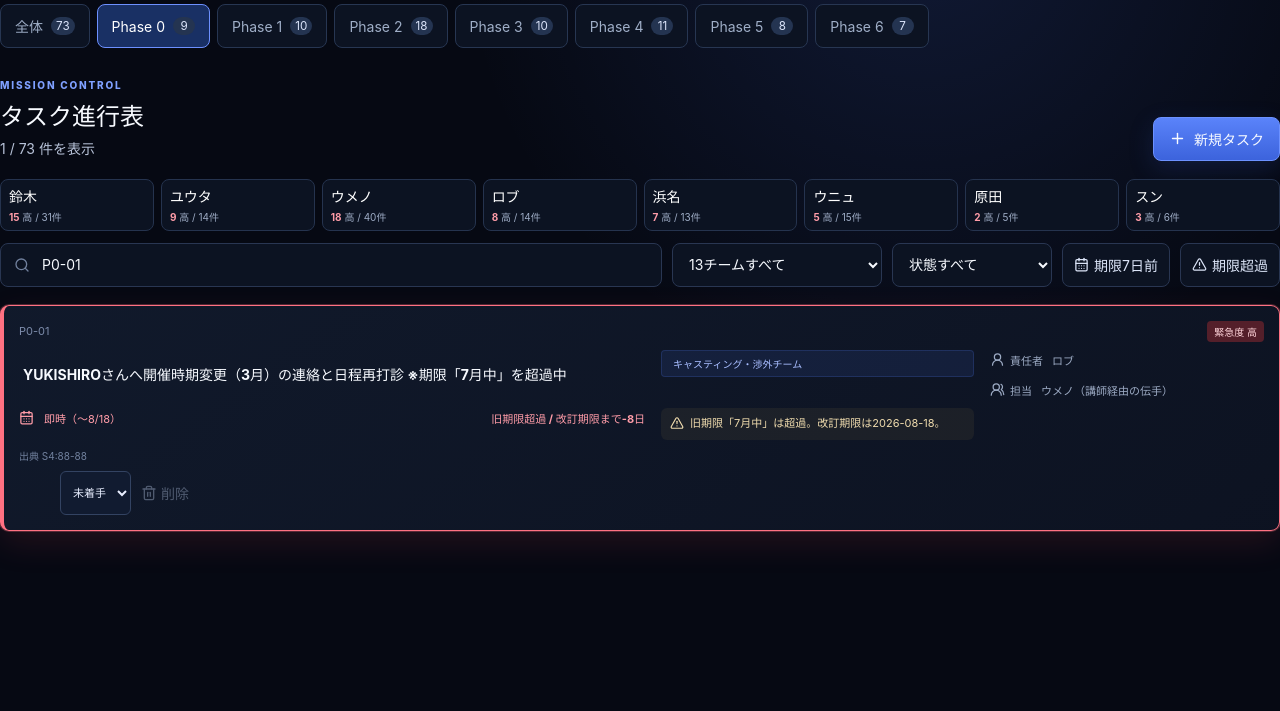
TaskBoard UI › rejects a non-visible inline owner before persistence 0
The image size is (1280, 711).
Click the button with aria-label "責任者を直接編集" at point(1063, 360), box [1048,350,1078,370]
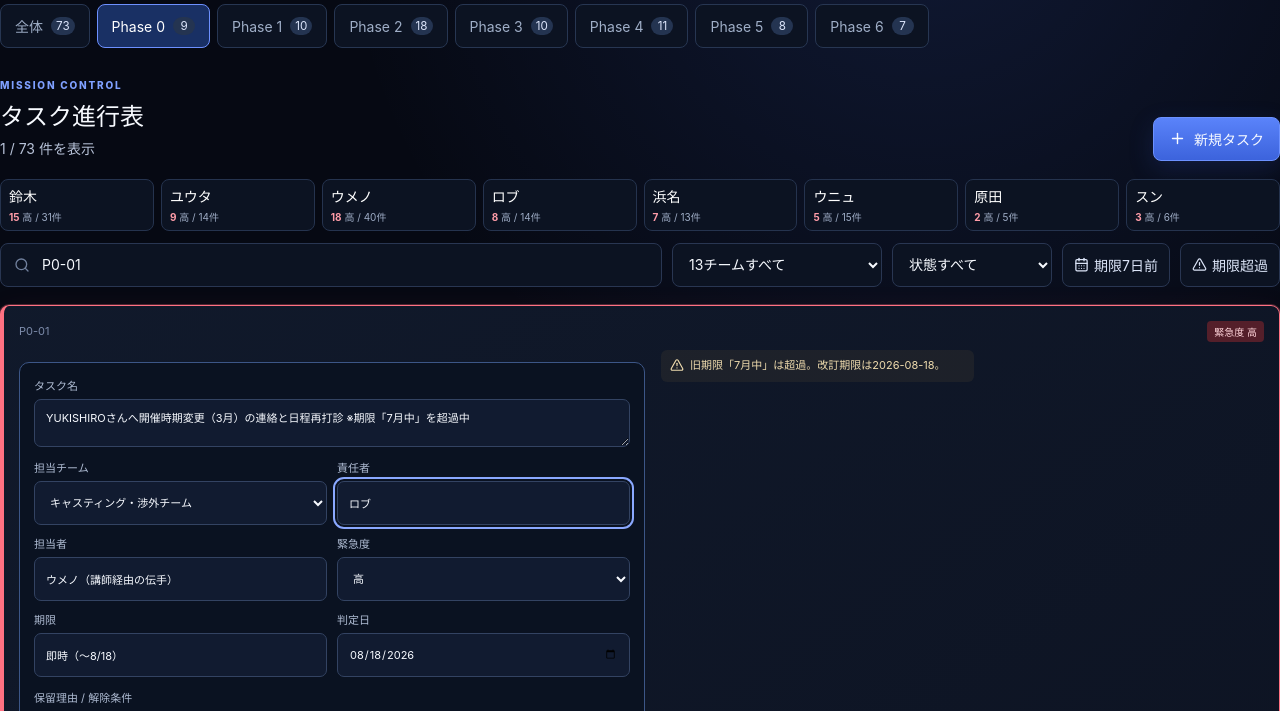
Clear the field labelled "責任者" at point(484, 503), box [337,481,630,525]
(page scrolled)
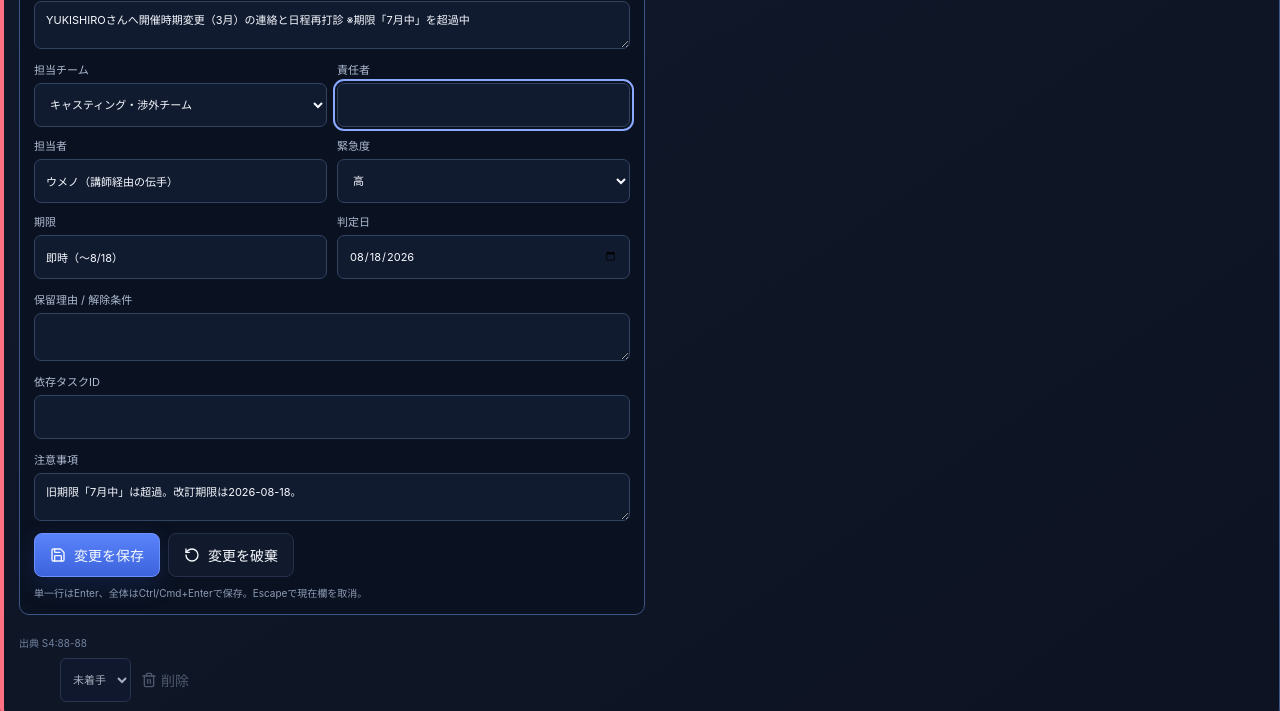
Click the button "変更を保存" at point(97, 555), box [34,533,160,577]
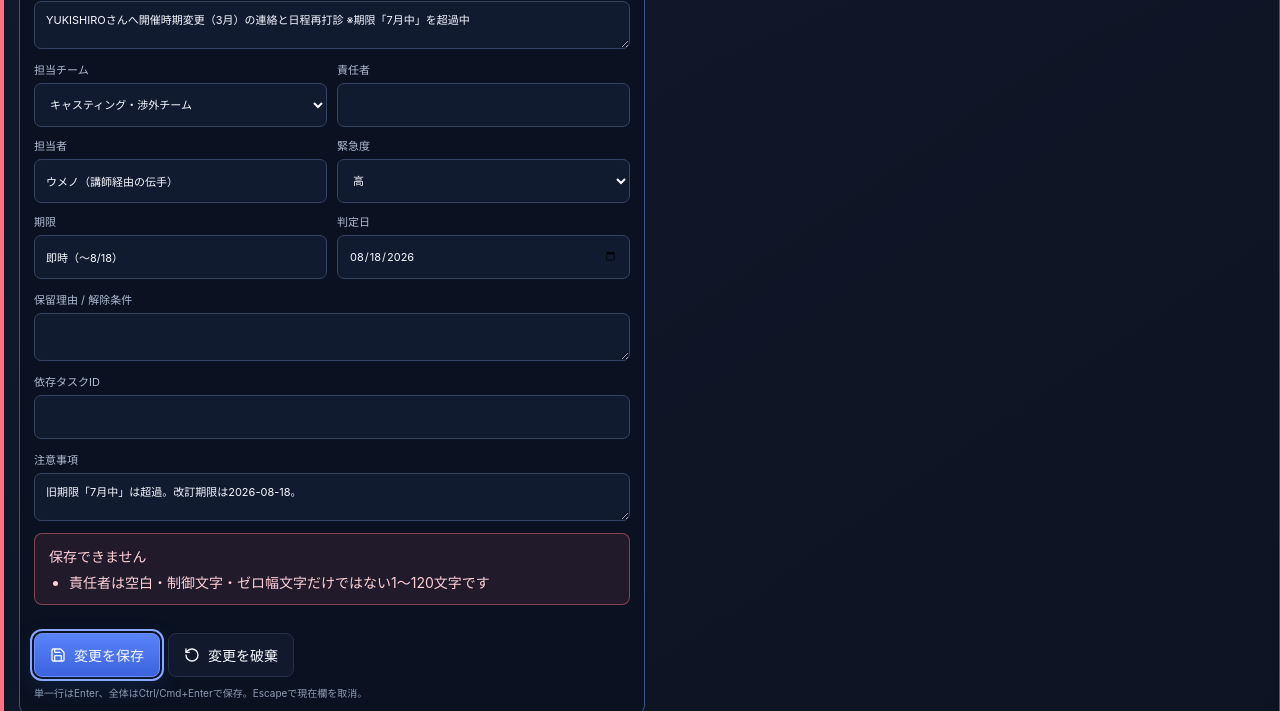
Now the message shows "責任者は空白・制御文字・ゼロ幅文字だけではない1〜120文字", box [69,574,490,591]
